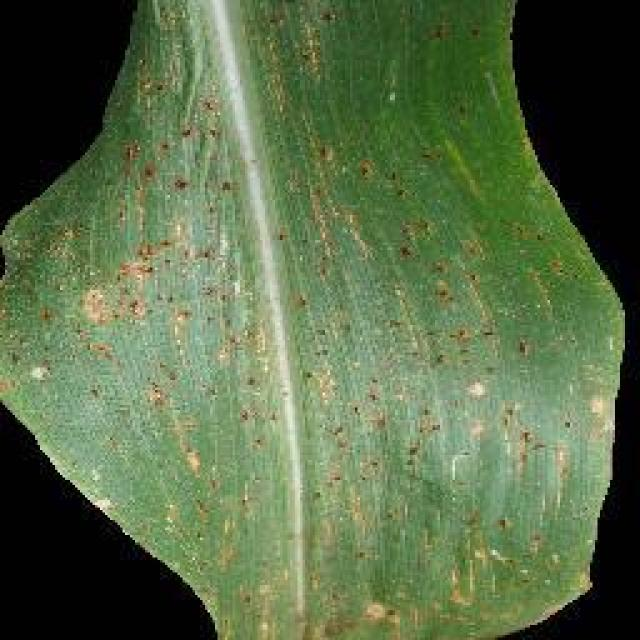Corn Common Rust: (38, 95, 580, 603)
